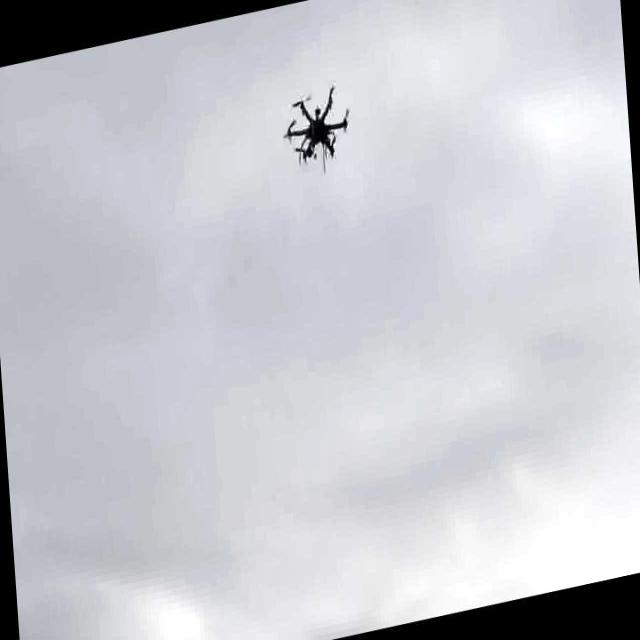drone: (280, 76, 353, 170)
